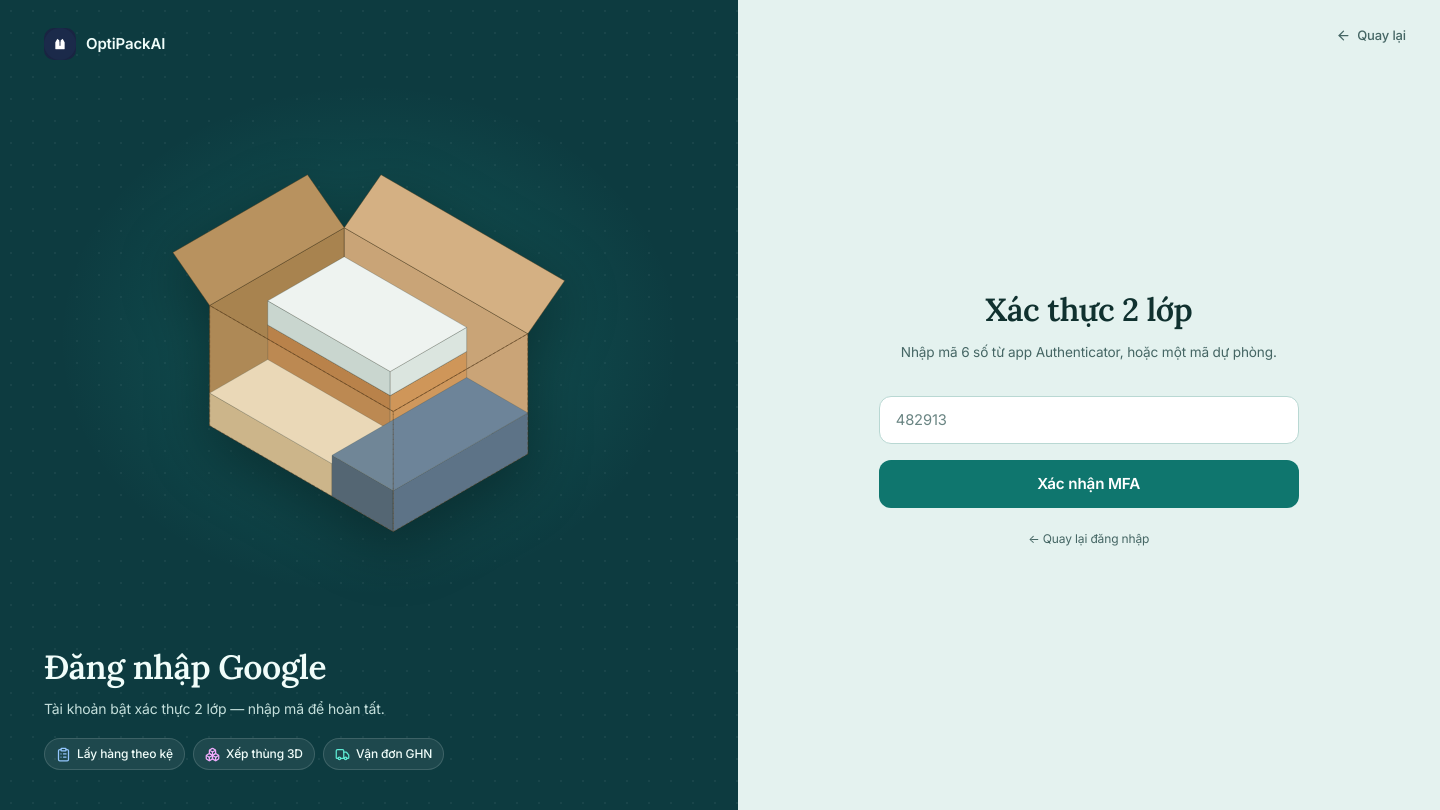
Scenario: OAuthSuccessPage › đổi login_code 1 lần, hỏi mã MFA rồi mới vào
The width and height of the screenshot is (1440, 810).
Expected: the heading "Xác thực 2 lớp" is shown, [985,289,1192,330]
Type "123456" into the field named "Mã xác thực" at [1089, 420], box [879,396,1299,444]
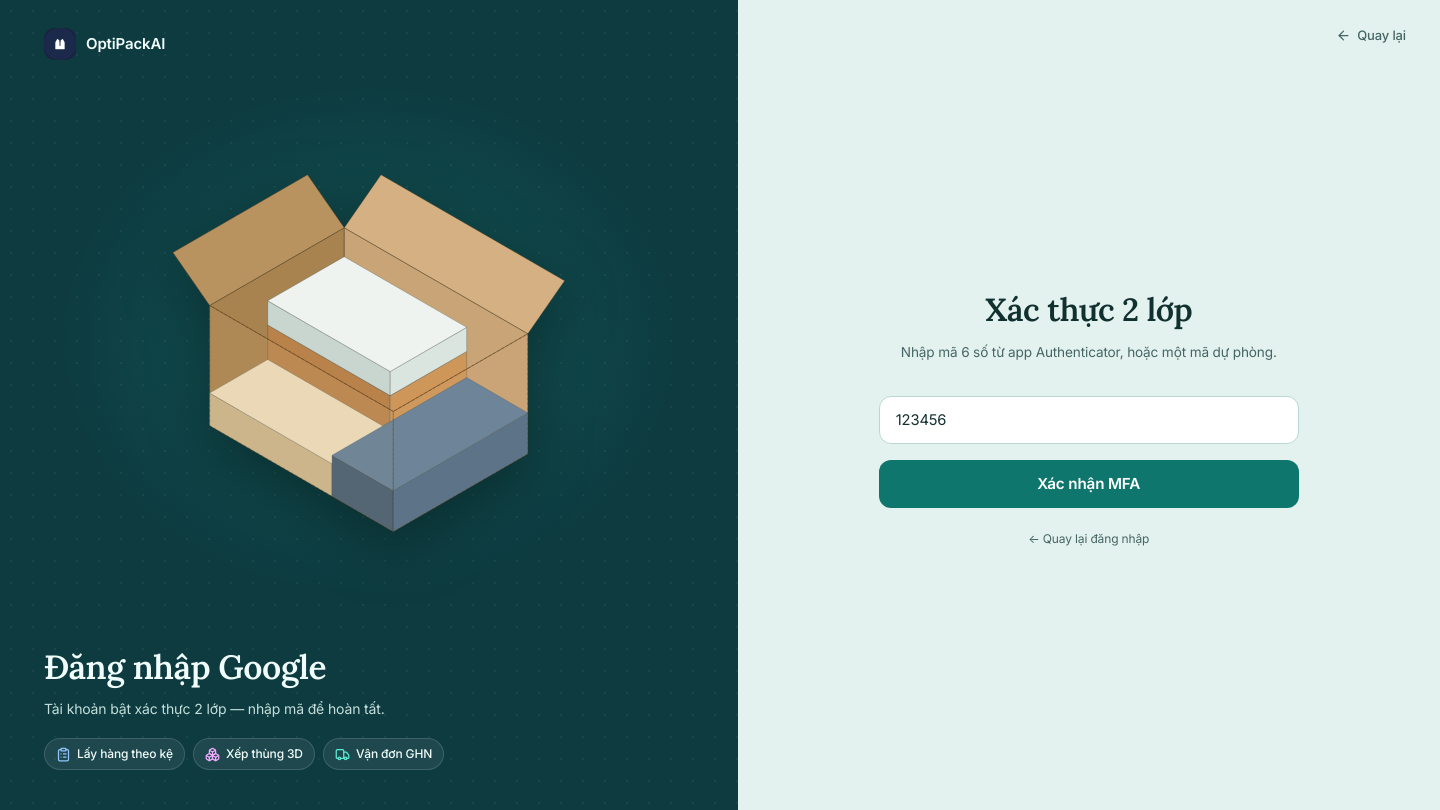
Click the button "Xác nhận MFA" at [1089, 484], box [879,460,1299,508]
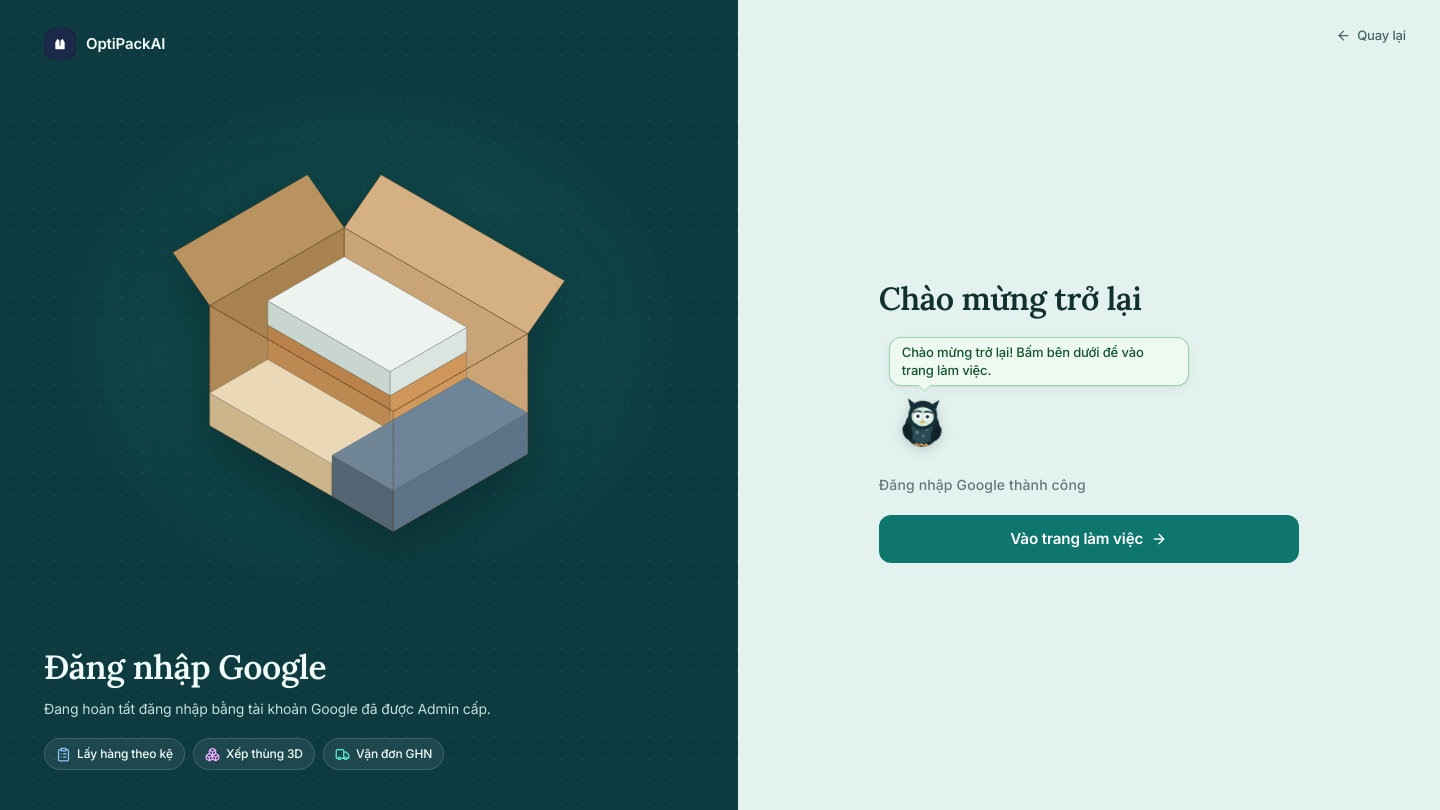
Result: the text "Đăng nhập Google thành công" is shown at [879,476,1086,493]
